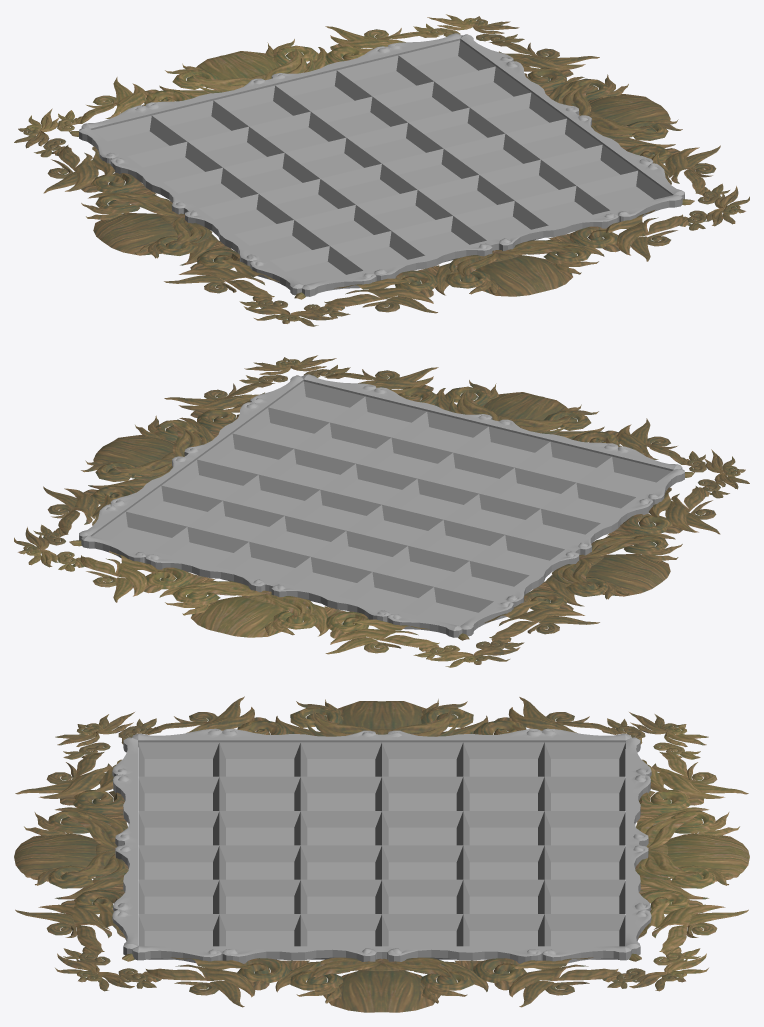
Rendered from marco 6x6.fbx.
3 views of the same model, one above another, from view 1: azimuth 30°, elevation 25°; view 2: azimuth 150°, elevation 25°; view 3: azimuth 270°, elevation 25° (orthographic). The views are drawn at different scales.
Visible parts, largest first — view 1: polySurface339; view 2: polySurface339; view 3: polySurface339.
Boxes of the visible parts, x1=… form: polySurface339: x1=14, y1=14, x2=749, y2=326; polySurface339: x1=14, y1=355, x2=749, y2=667; polySurface339: x1=14, y1=696, x2=749, y2=1012.
Size of the model in its own units: 161 by 4.58 by 161.
